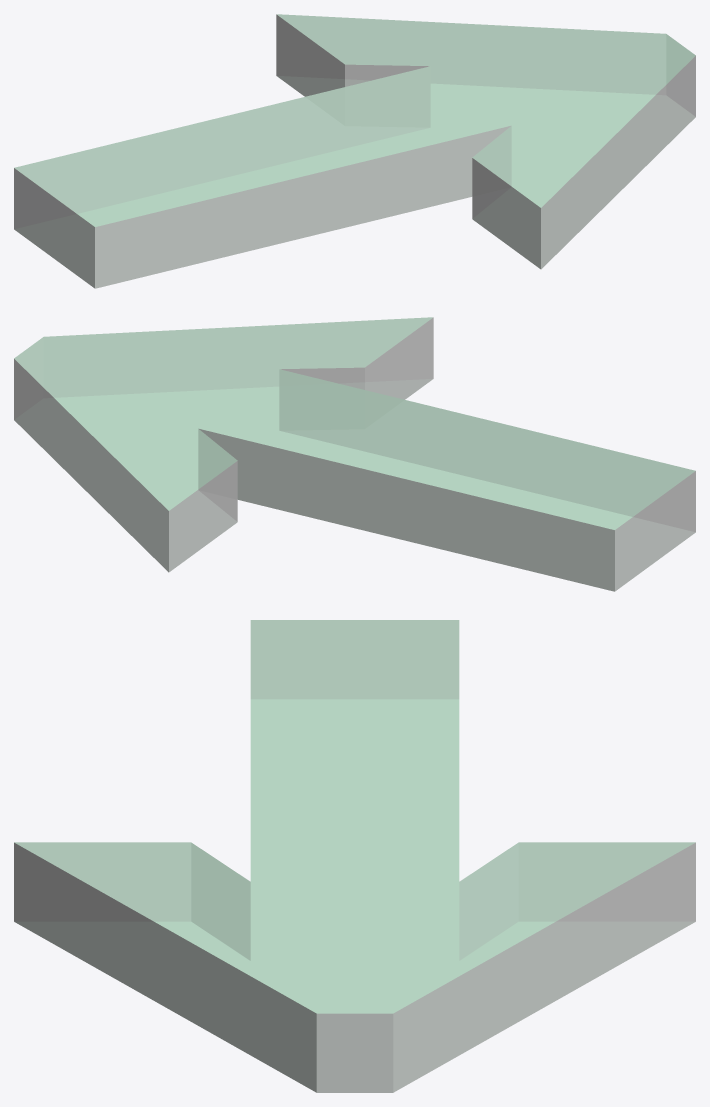
File: Arrow_gh.fbx
3 views of the same model, one above another, from view 1: azimuth 30°, elevation 25°; view 2: azimuth 150°, elevation 25°; view 3: azimuth 270°, elevation 25° (orthographic). The views are drawn at different scales.
Parts seen in each view (by area): view 1: Arrow_gh; view 2: Arrow_gh; view 3: Arrow_gh.
Boxes of the visible parts, <box> form: Arrow_gh: <box>14,14,695,288</box>; Arrow_gh: <box>14,317,695,591</box>; Arrow_gh: <box>14,620,695,1092</box>.
Bounding box in the file's own units: 0.7029 × 0.9598 × 0.0901.
